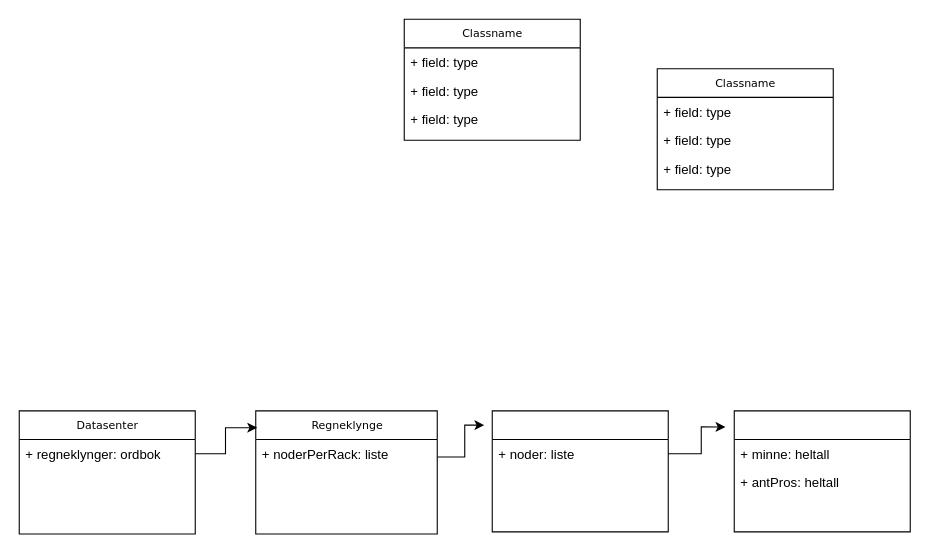
The diagram is 930 pixels wide and 553 high, and some of its shapes have lost their labels. Each missing label, with the box of its shape:
Node: (733, 410, 910, 532)
Rack: (491, 410, 668, 532)
